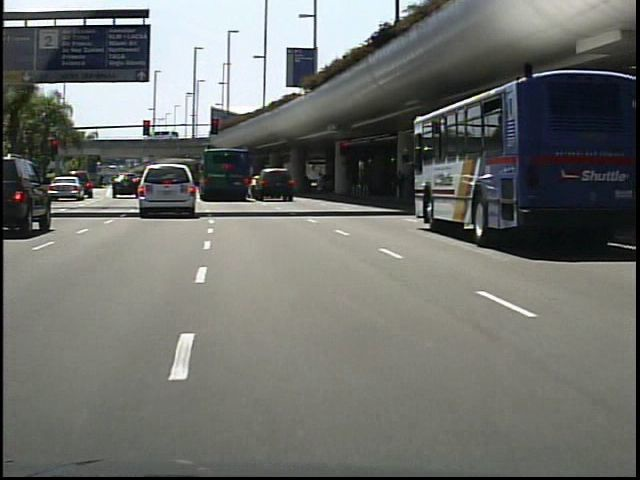person: (315, 163, 335, 200)
